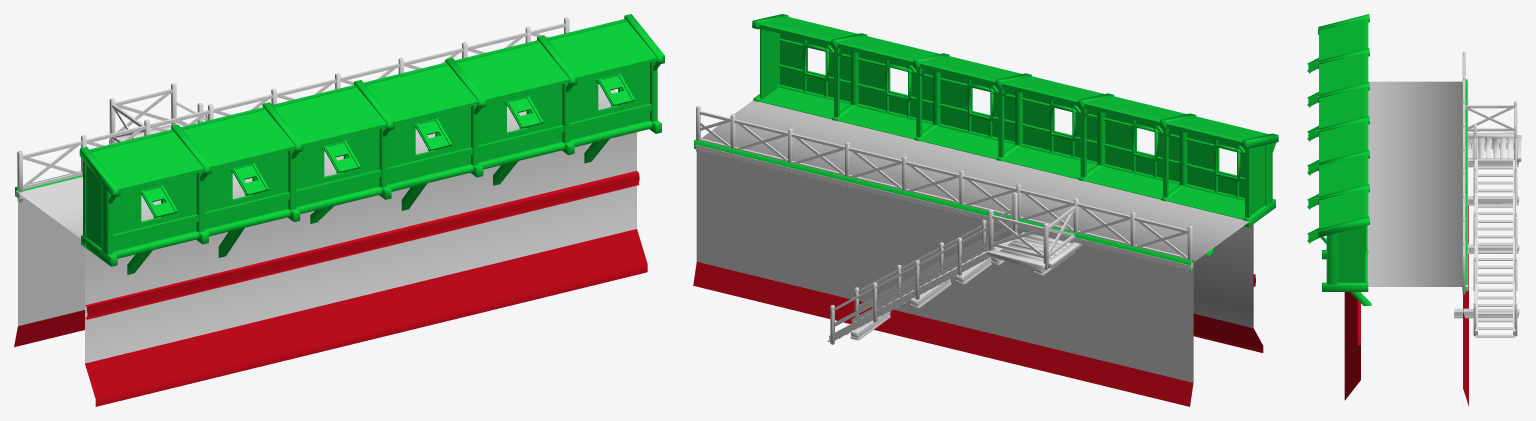
The model's file is Wall_2v2 (1).fbx.
The picture shows the model from 3 angles, left to right: view 1: azimuth 30°, elevation 25°; view 2: azimuth 150°, elevation 25°; view 3: azimuth 270°, elevation 25°; orthographic projection. The views are drawn at different scales.
Visible parts, largest first — view 1: Group_4.015, Group_4.028, Group_3.012, Group_3.013, Group_4.012, Group_4.011, Group_4.013, Group_4.010, Group_4.035, Group_4.007; view 2: Group_4.015, Group_4.028, Group_3.012, Group_3.013, Group_3.011; view 3: Group_4.015, Group_4.028, Group_3.013, Group_3.012.
Boxes of the visible parts, x1=… form: Group_4.015: x1=14, y1=84, x2=647, y2=406; Group_4.028: x1=79, y1=14, x2=664, y2=274; Group_3.012: x1=15, y1=17, x2=569, y2=202; Group_3.013: x1=108, y1=83, x2=207, y2=144; Group_4.012: x1=415, y1=119, x2=452, y2=151; Group_4.011: x1=324, y1=141, x2=360, y2=173; Group_4.013: x1=507, y1=96, x2=543, y2=128; Group_4.010: x1=232, y1=163, x2=269, y2=195; Group_4.035: x1=598, y1=74, x2=635, y2=106; Group_4.007: x1=141, y1=186, x2=177, y2=218; Group_4.015: x1=693, y1=100, x2=1263, y2=406; Group_4.028: x1=752, y1=14, x2=1278, y2=255; Group_3.012: x1=695, y1=106, x2=1193, y2=272; Group_3.013: x1=827, y1=192, x2=1082, y2=344; Group_3.011: x1=1018, y1=189, x2=1075, y2=242; Group_4.015: x1=1344, y1=79, x2=1468, y2=405; Group_4.028: x1=1318, y1=14, x2=1371, y2=305; Group_3.013: x1=1454, y1=101, x2=1521, y2=337; Group_3.012: x1=1462, y1=52, x2=1468, y2=294.
Bounding box in the file's own units: 1800 × 769 × 793.
